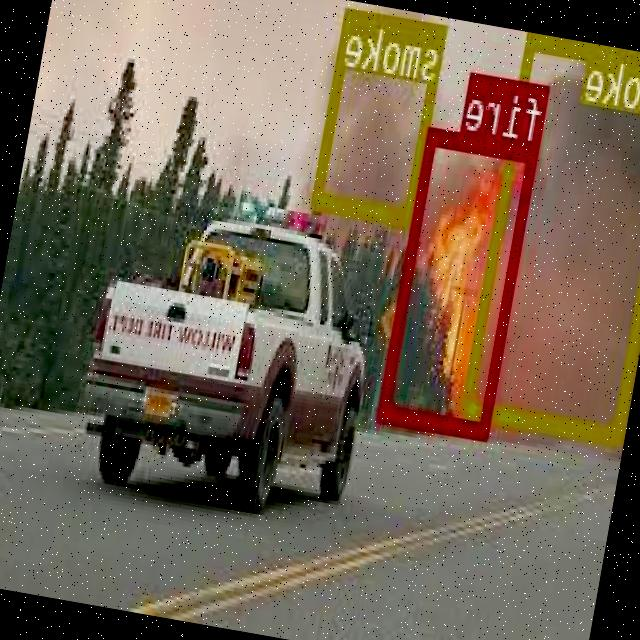fire: (380, 125, 541, 437)
smoke: (462, 31, 640, 442), (314, 5, 449, 221)
